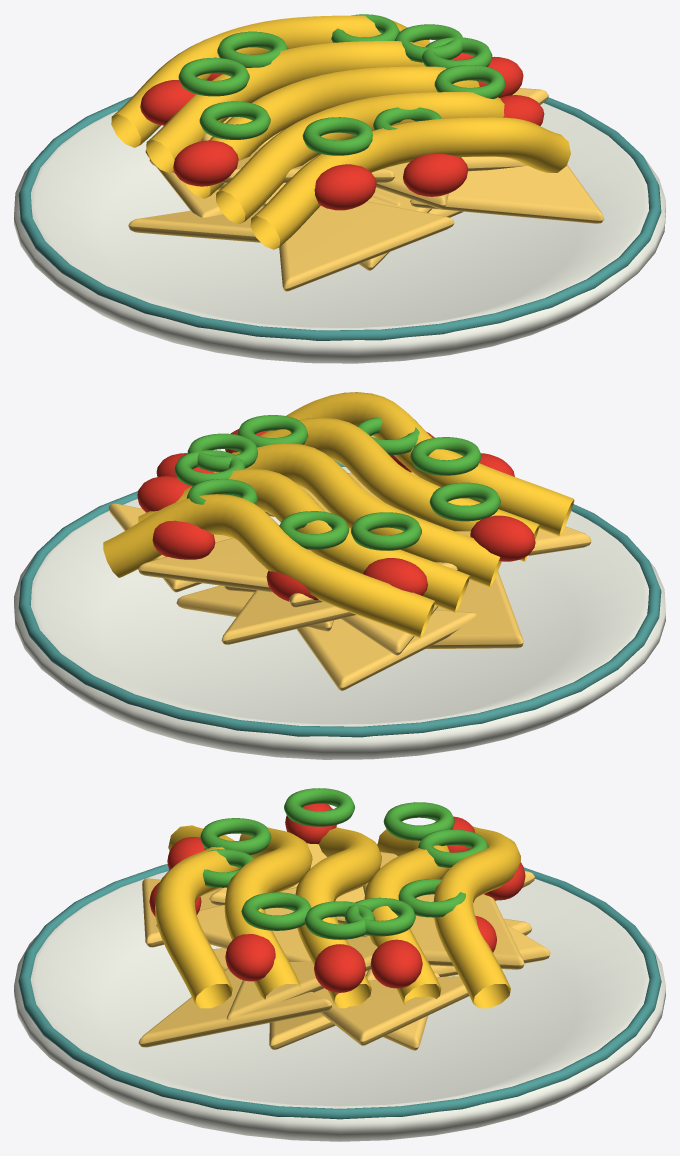
File: nachos.glb
The picture shows the model from 3 angles, top to bottom: view 1: azimuth 30°, elevation 25°; view 2: azimuth 150°, elevation 25°; view 3: azimuth 270°, elevation 25°; orthographic projection.
Parts seen in each view (by area): view 1: nachos_mesh; view 2: nachos_mesh; view 3: nachos_mesh.
Boxes of the visible parts, x1=… form: nachos_mesh: x1=14, y1=14, x2=665, y2=363; nachos_mesh: x1=14, y1=392, x2=665, y2=759; nachos_mesh: x1=14, y1=788, x2=665, y2=1141.
Size of the model in its own units: 0.375 by 0.1142 by 0.375.
